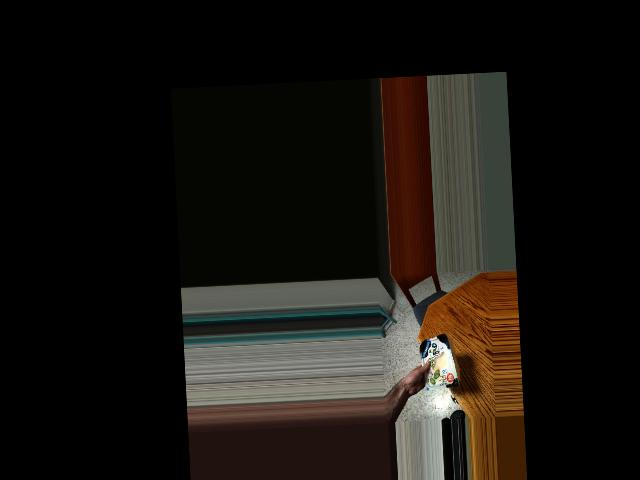cheese: (416, 332, 453, 394)
